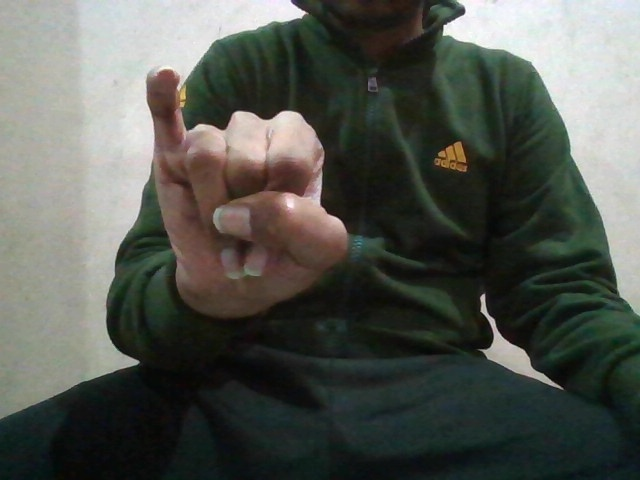J: (128, 61, 354, 315)
